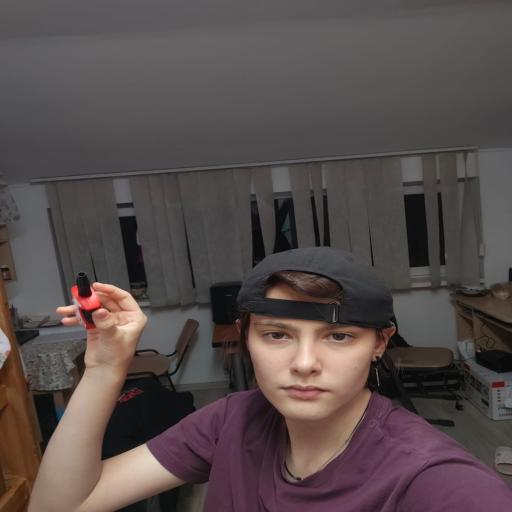Super Glue: (69, 267, 102, 328)
